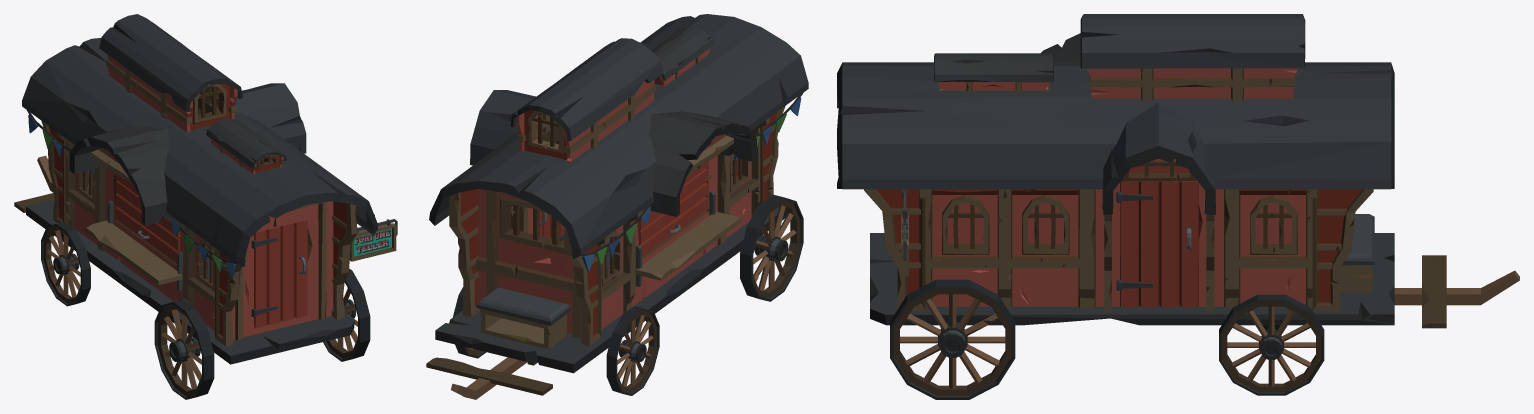
Rendered from wagon-01.glb.
3 renders of one model, left to right at view 1: azimuth 30°, elevation 25°; view 2: azimuth 150°, elevation 25°; view 3: azimuth 270°, elevation 25°, orthographic. The views are drawn at different scales.
Parts seen in each view (by area): view 1: SM_Veh_Wagon_01; view 2: SM_Veh_Wagon_01; view 3: SM_Veh_Wagon_01.
Part boxes in pixels (left/top/right/bottom): SM_Veh_Wagon_01: left=14, top=14, right=397, bottom=399; SM_Veh_Wagon_01: left=426, top=14, right=808, bottom=399; SM_Veh_Wagon_01: left=837, top=14, right=1519, bottom=399.
Size of the model in its own units: 415 by 495 by 926.
1 material, 1 textured.
